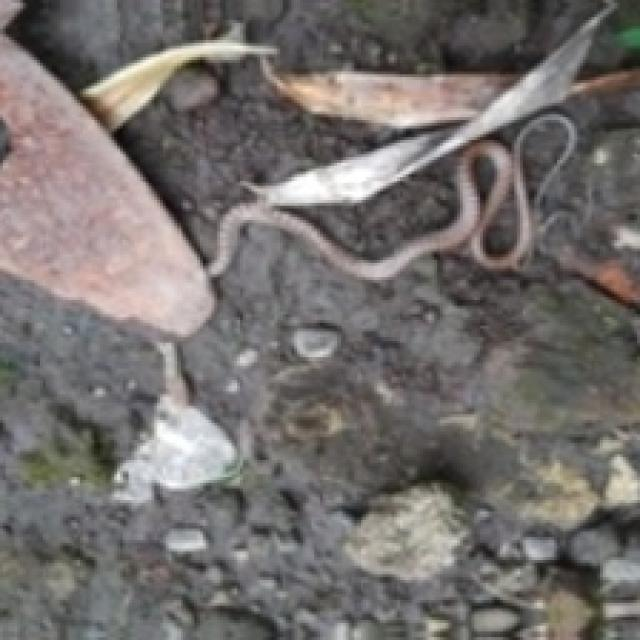paradise tree snake: (209, 0, 611, 277)
